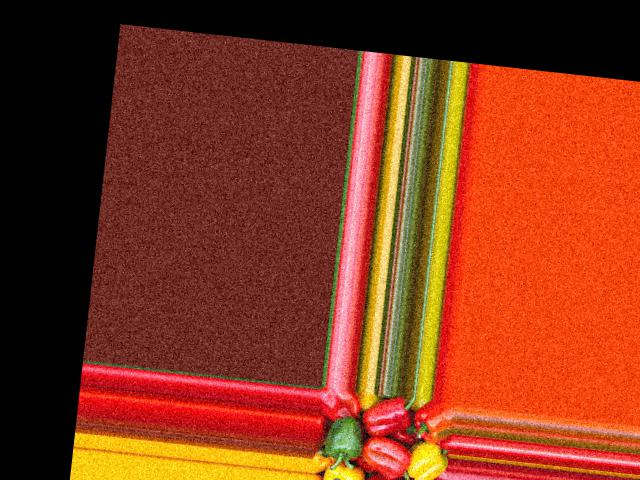bell_pepper: (403, 436, 450, 480)
